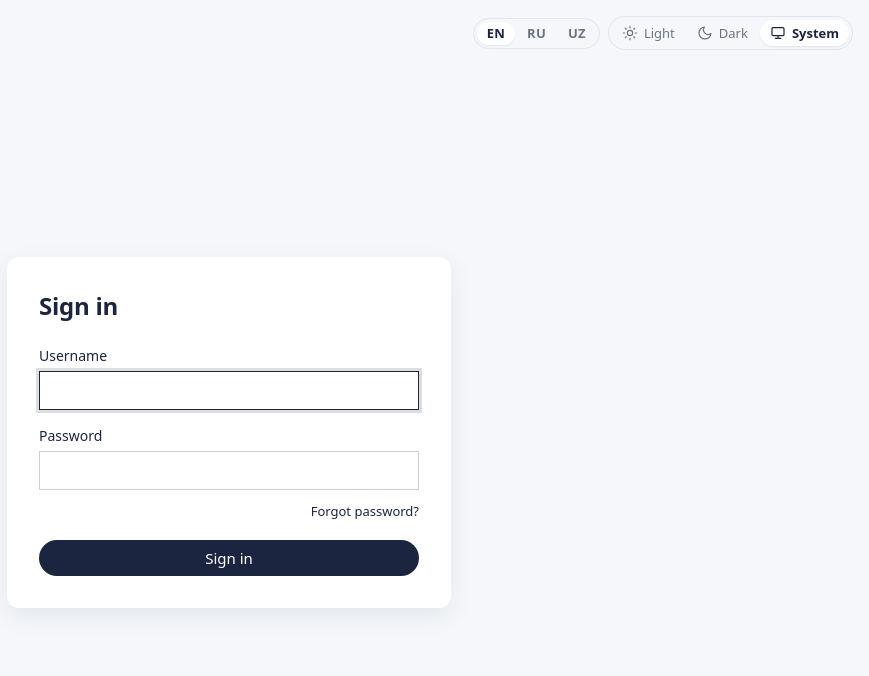
LoginPage — a session the browser would not accept (VG-11) › says what is wrong instead of leaving the form doing nothing
Type "operator" into the field labelled "Username" at [229, 390], box [39,370,419,410]
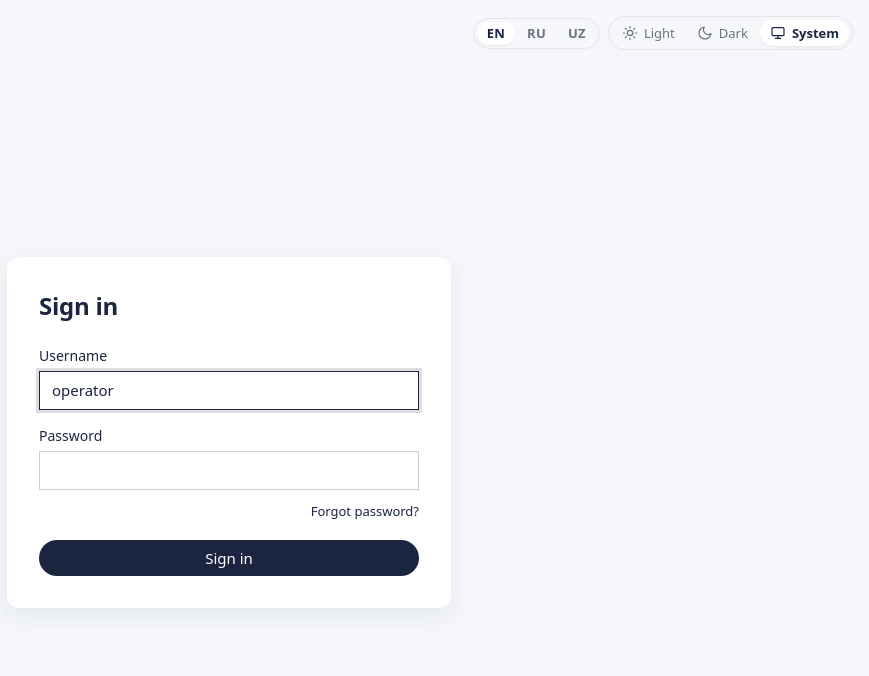
Type "secret" into the password field labelled "Password" at [229, 470], box [39,450,419,490]
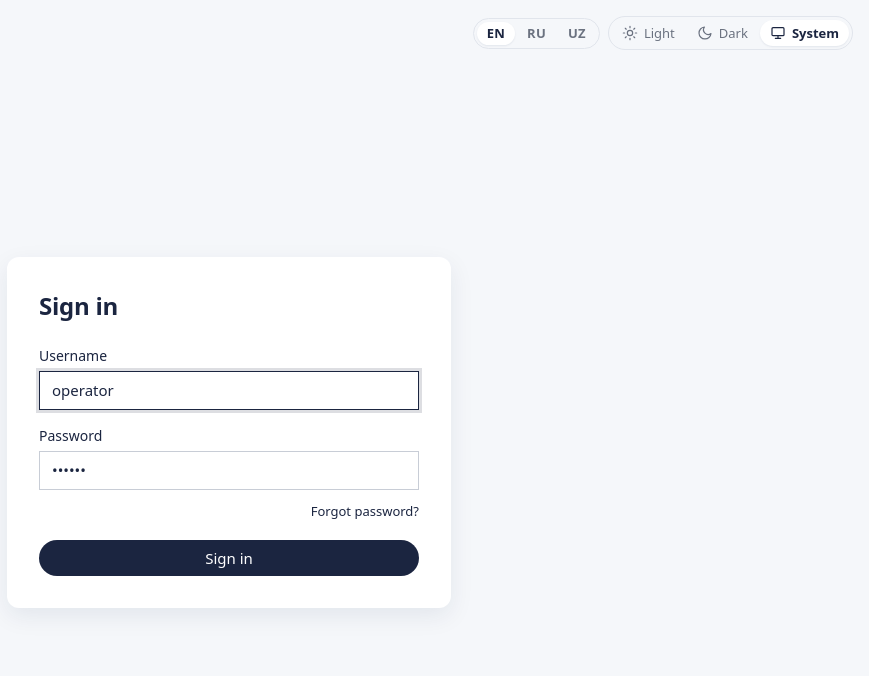
Click the button "Sign in" at [229, 558], box [39,540,419,576]
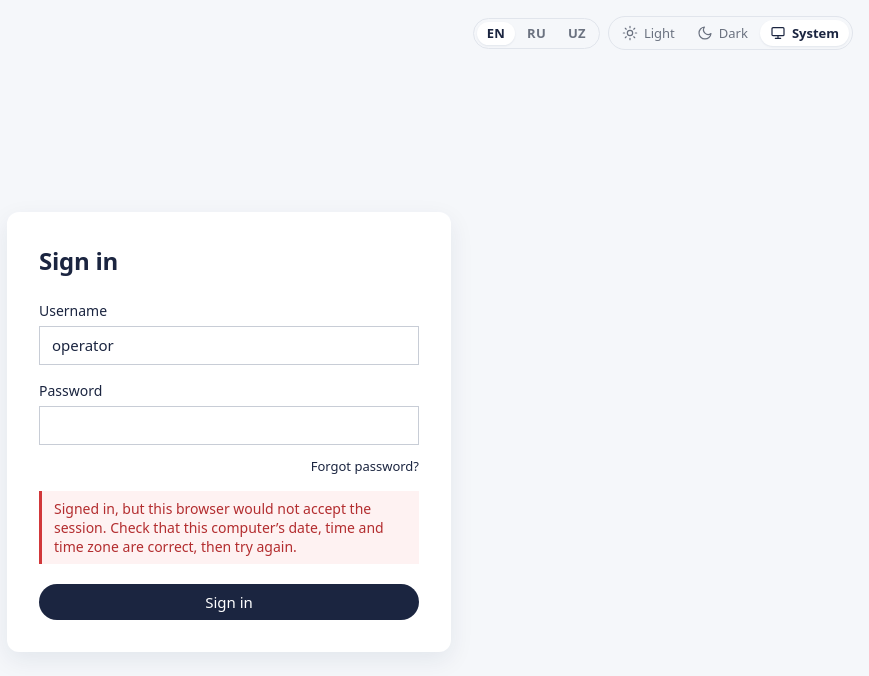
Check: the text "date, time and time zone" is shown, box [54,499,384,556]
